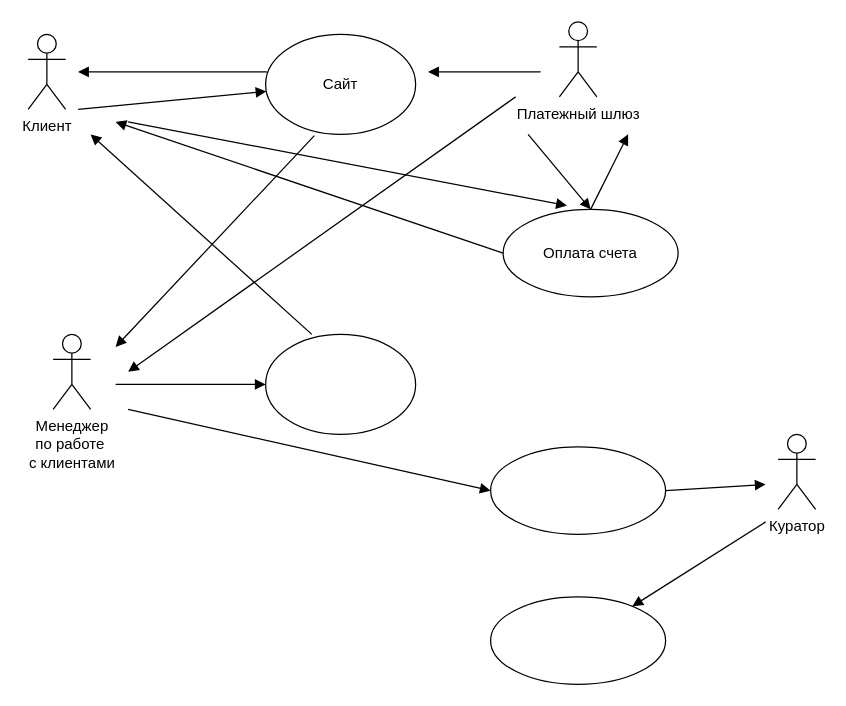
Image size: 846x706. Some labels were removed from this diagram. The box of each missing label's shape, as (x1, y1, x2, y2) in pixels:
Обработка информации о студенте: (489, 446, 666, 534)
Обработка клиента, выставление счета: (264, 333, 416, 434)
Связь со студентом: (489, 596, 666, 684)
